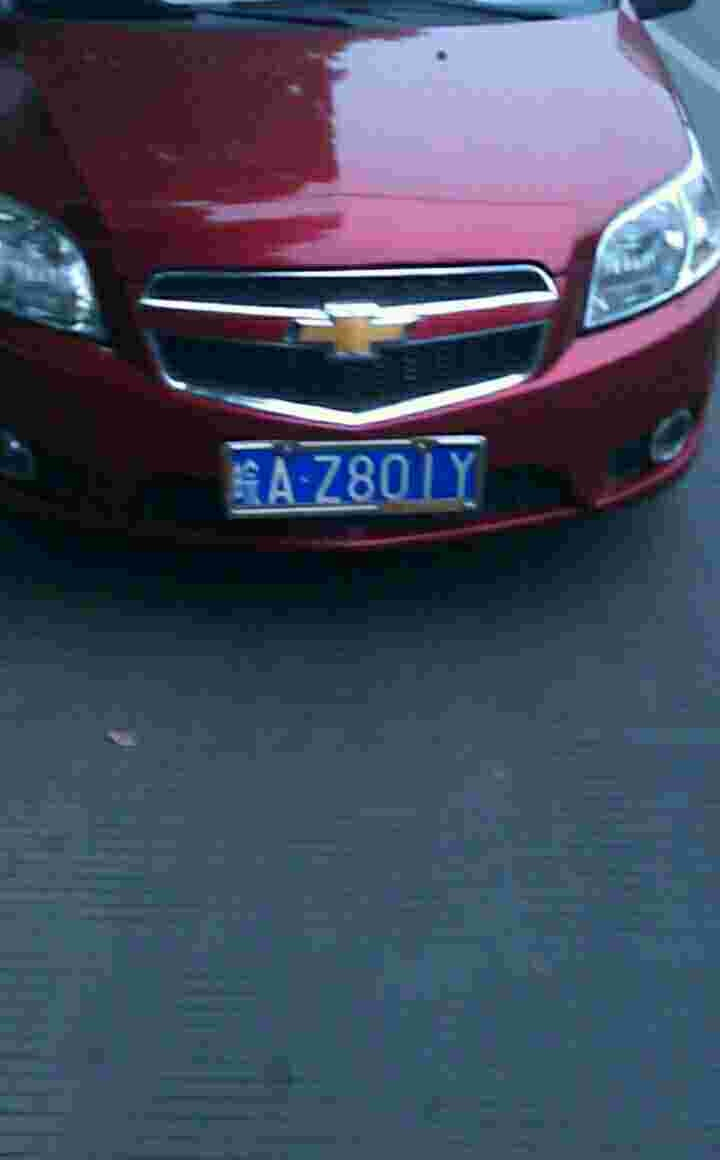license_plate: (232, 437, 500, 515)
